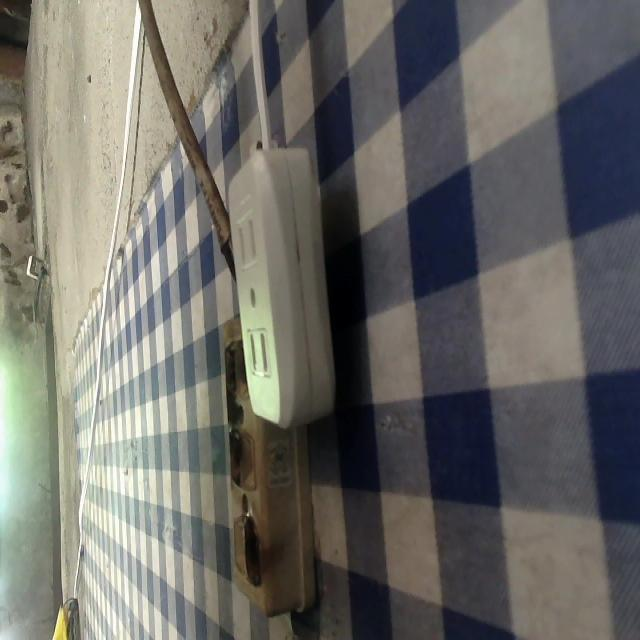-: (237, 519, 264, 589), (224, 339, 251, 400), (222, 427, 243, 488)
